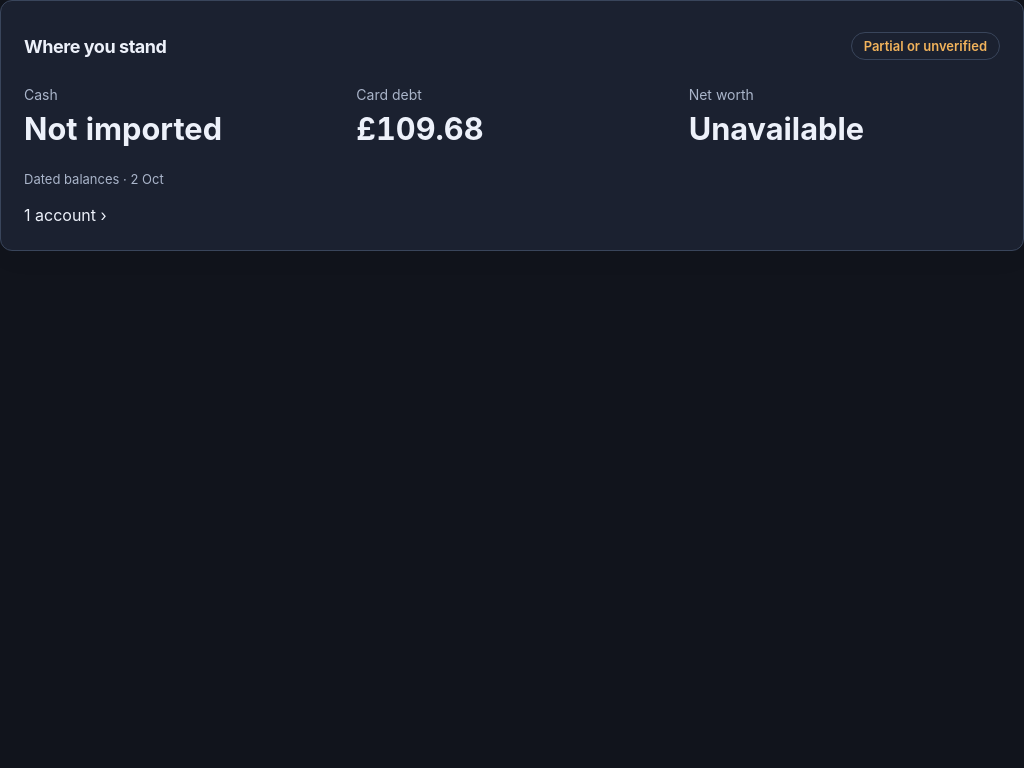
Test: shows dated card debt but leaves cash and net position unavailable when no cash source exists
Expected: the link "Card debt £109.68" is shown, [356,86,484,147]
Expected: the link "Cash Not imported" is shown, [24,86,222,147]
Click the button with aria-label "Partial or unverified: Your financial position explained". click: [925, 46]
box: [851,24,1000,68]
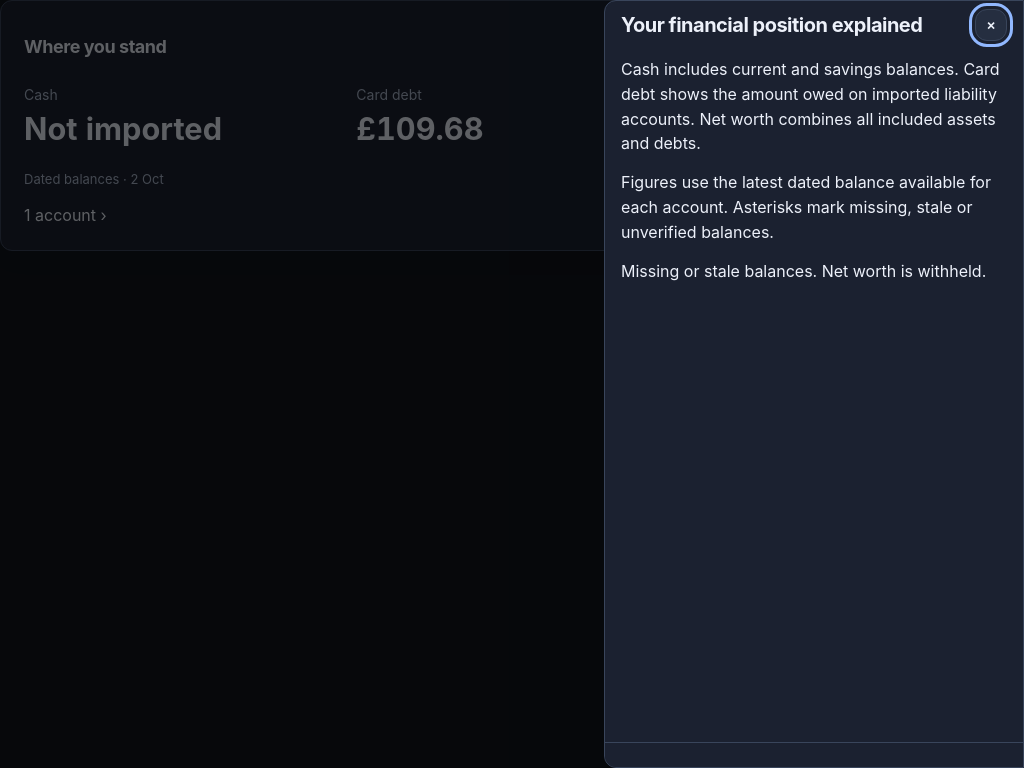
Now the text "Missing or stale balances. Net worth is withheld." is shown, box [621,259,1007,283]
